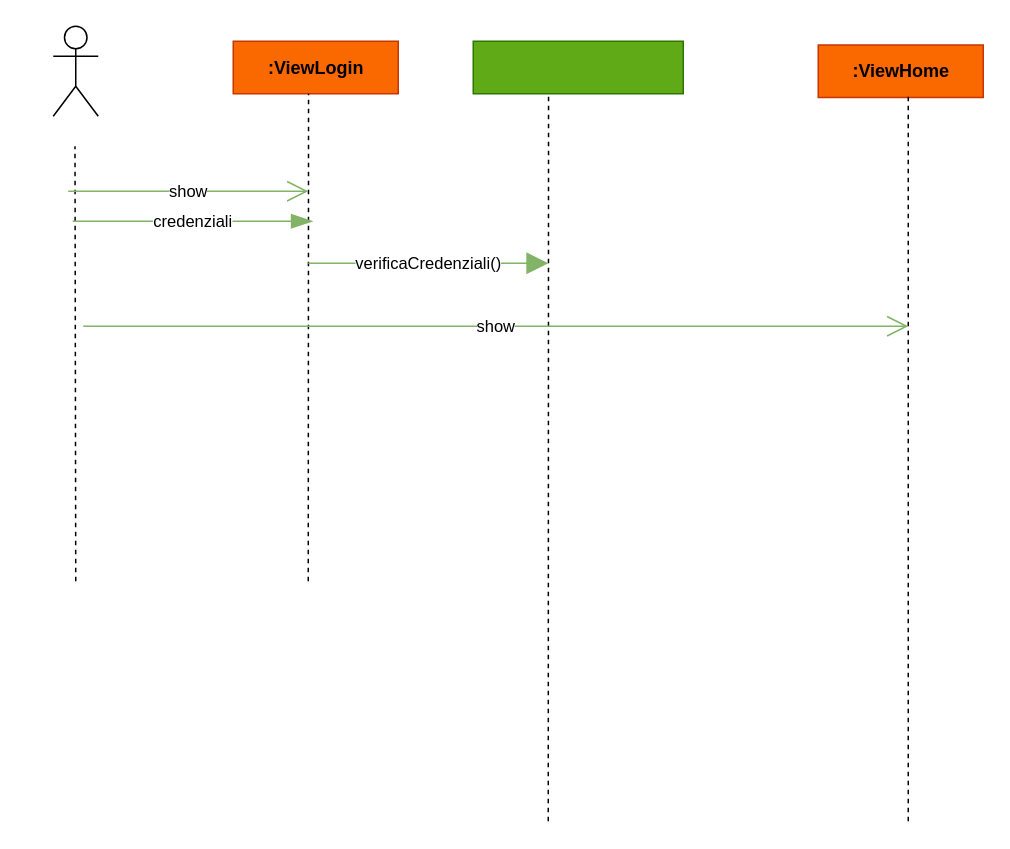
The diagram is 1010 pixels wide and 849 high, and some of its shapes have lost their labels. Each missing label, with the centre of its shape:
":LoginController" goes at pixel 577 67.
"Nutrizionista" goes at pixel 75 70.
